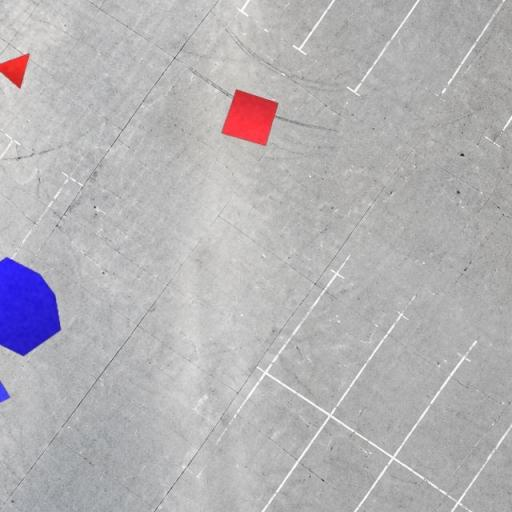RED_SQUARE: (221, 89, 279, 146)
